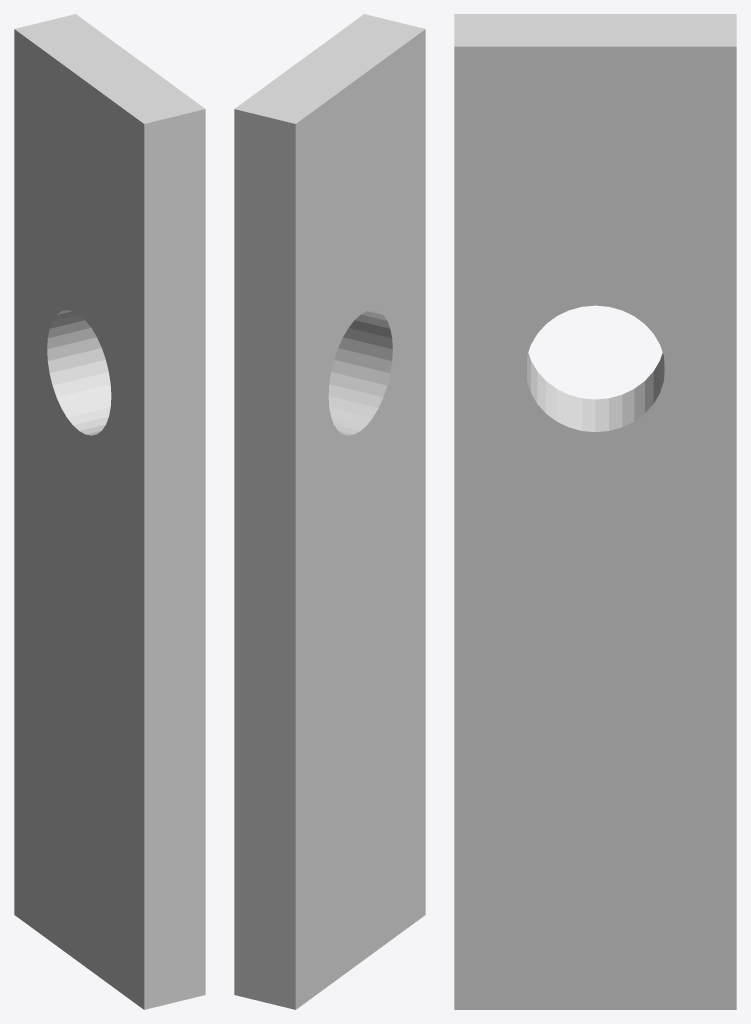
The model's file is monolith.obj.
3 renders of one model, left to right at view 1: azimuth 30°, elevation 25°; view 2: azimuth 150°, elevation 25°; view 3: azimuth 270°, elevation 25°, orthographic. The views are drawn at different scales.
Visible parts, largest first — view 1: Cube; view 2: Cube; view 3: Cube.
Boxes of the visible parts, box(x1,y1,x2,y2) form: Cube: box(14, 14, 205, 1009); Cube: box(234, 14, 425, 1009); Cube: box(454, 14, 736, 1009).
Size of the model in its own units: 0.5467 by 7.53 by 2.
1 material, 1 textured.
